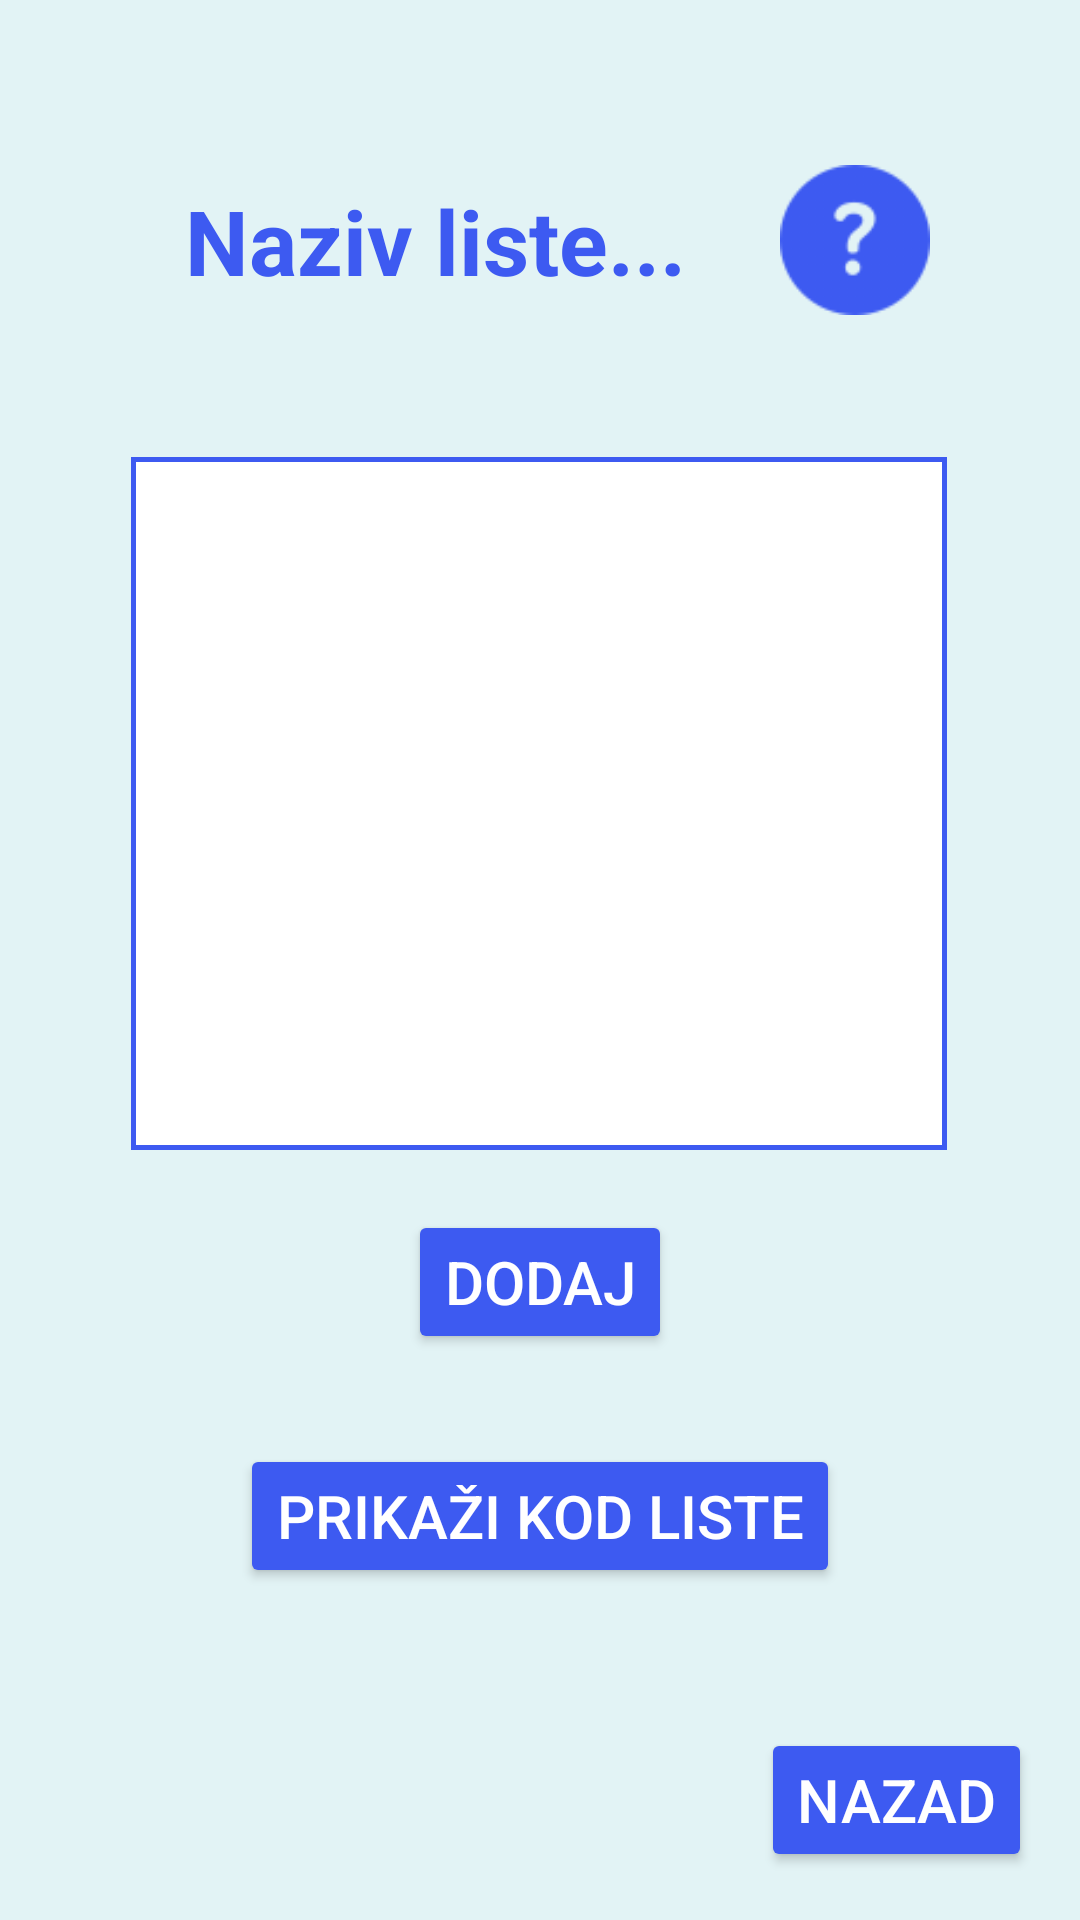

Icons on this 1080w x 1920h Android screen, each with the point to tap as (x,y):
question: (855,240)
